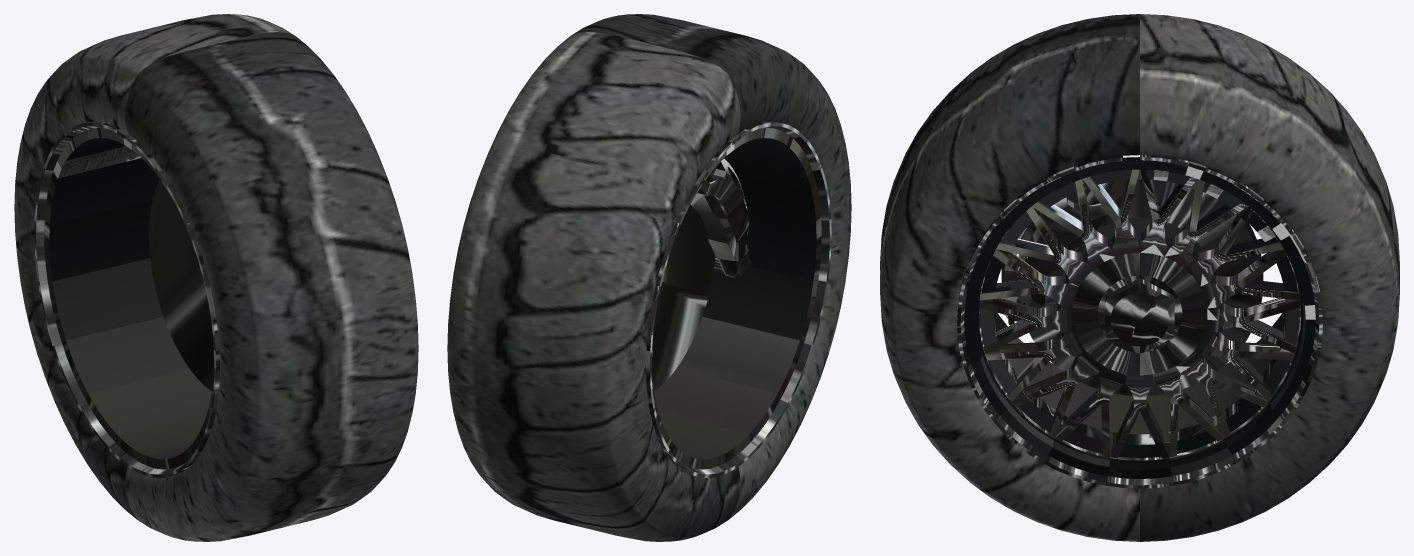
File: llantai.dae
The picture shows the model from 3 angles, left to right: view 1: azimuth 30°, elevation 25°; view 2: azimuth 150°, elevation 25°; view 3: azimuth 270°, elevation 25°; orthographic projection.
Parts seen in each view (by area): view 1: llantai; view 2: llantai; view 3: llantai.
Part boxes in pixels (box(x1,y1,x2,y2)): llantai: box(14, 14, 418, 541); llantai: box(447, 14, 851, 541); llantai: box(880, 14, 1399, 541).
Size of the model in its own units: 0.2544 by 0.6232 by 0.6232.
